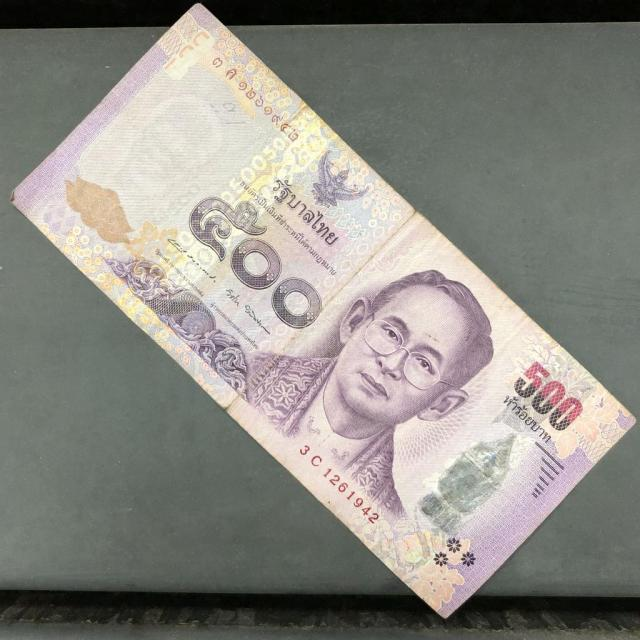THAI500: (11, 5, 634, 617)
